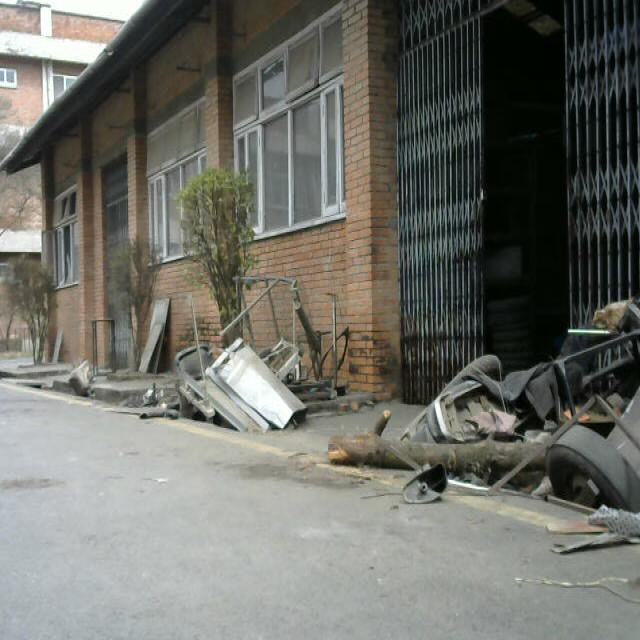Buildings: (0, 0, 640, 408)
Road: (0, 406, 635, 640)
